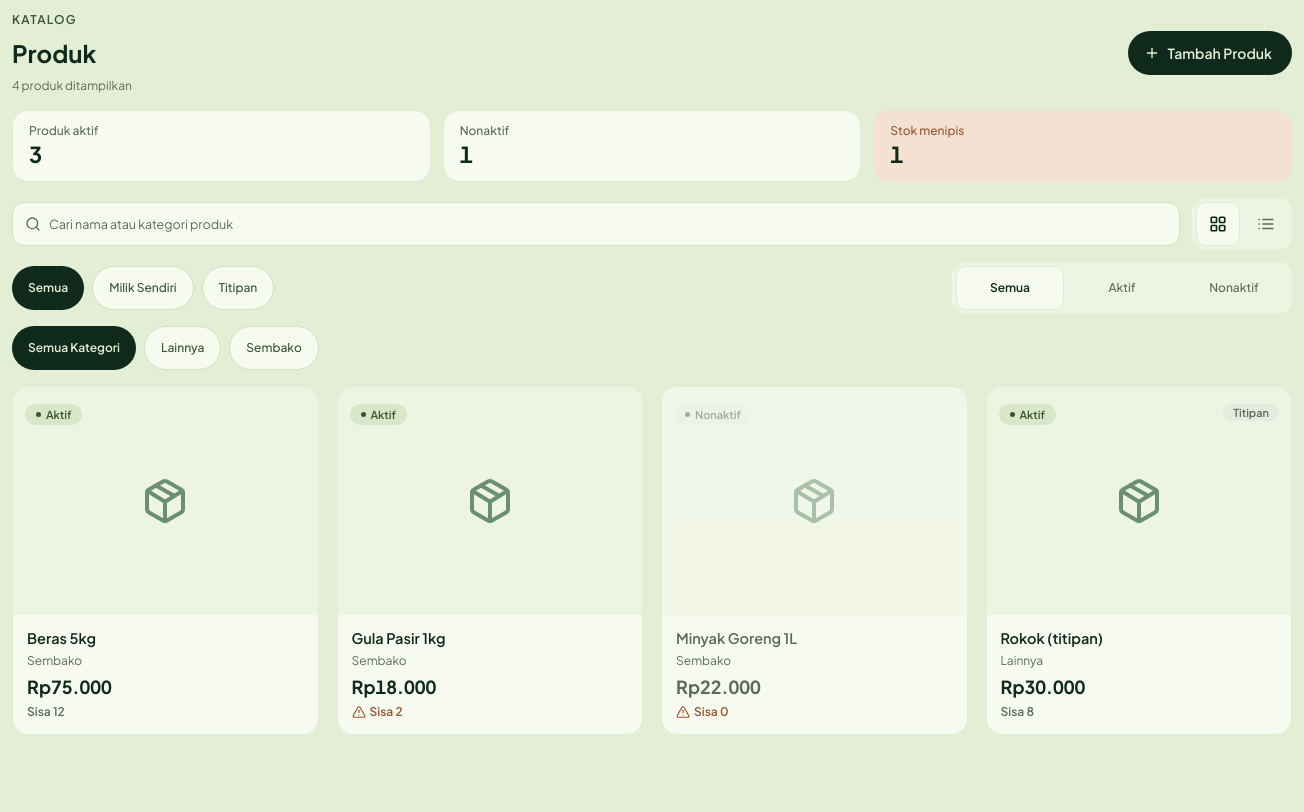
Katalog › filter tipe "Titipan" hanya menampilkan produk titipan
What coordinates should you click on to do the following:
click the button with aria-label "Tipe Titipan"
I would click on:
 (238, 288)
Its box is [202,266,274,310].
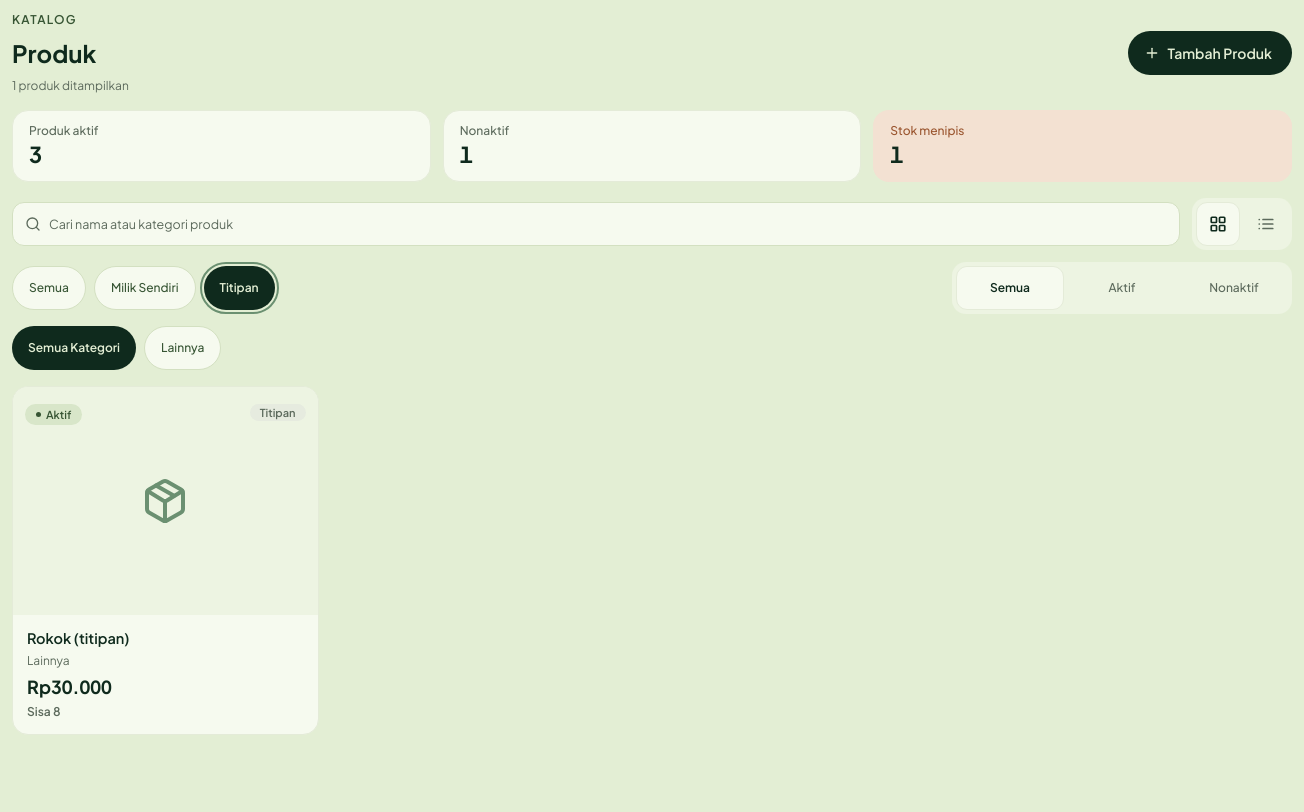
Expected: the text "Rokok (titipan)" is shown, [27,629,130,647]
Expected: the link "Beras 5kg" is gone
